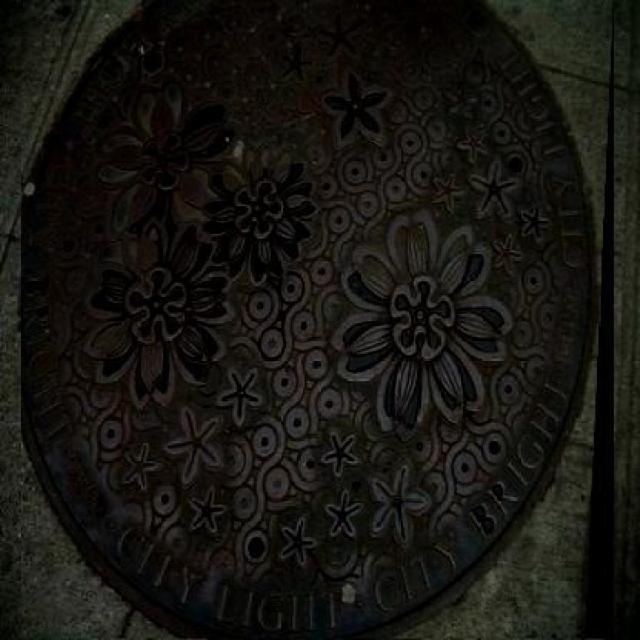Manhole: (20, 3, 614, 639)
